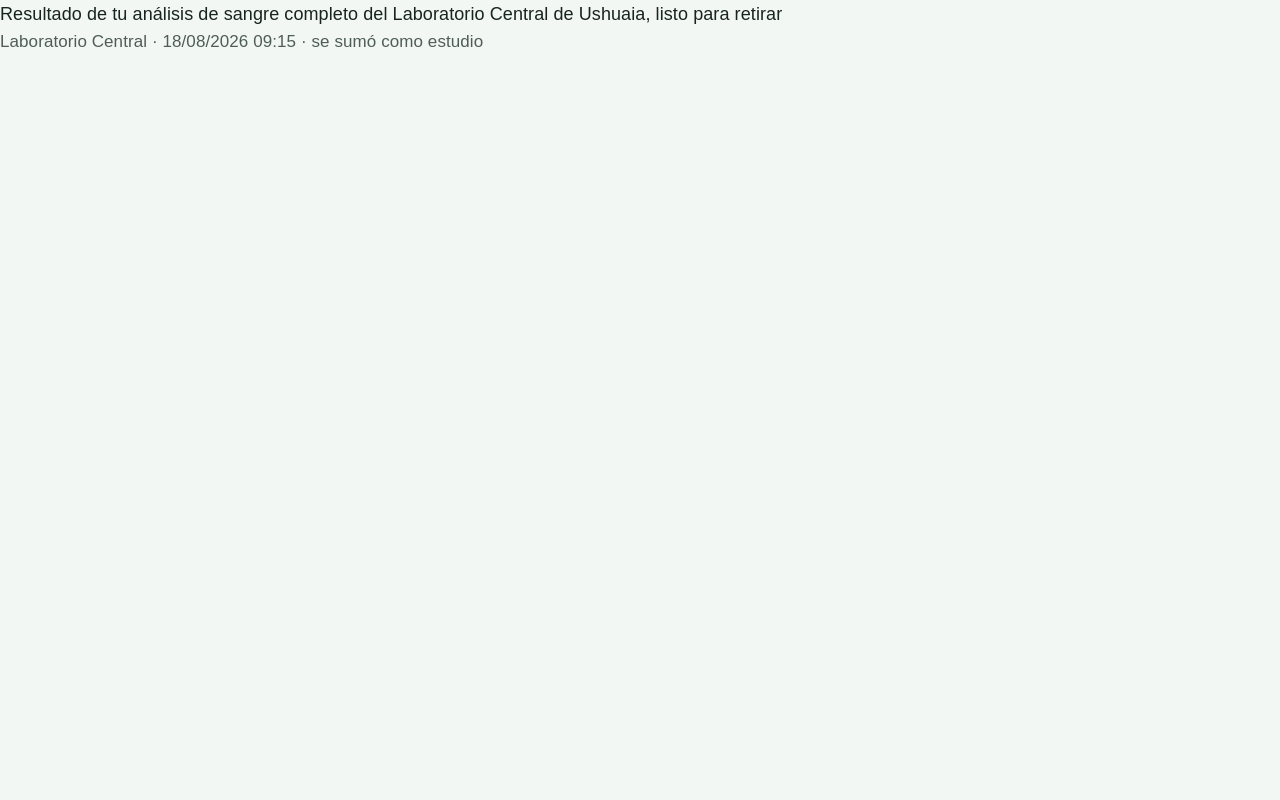
it: DialogoDetalleProcesado › el disparador muestra el asunto truncado, pero el diálogo lo muestra ENTERO
Step 1. Click the button named "Resultado de tu análisis de sangre completo del Laboratorio Central de Ushuaia, listo para retirar" → (391, 14), box [0, 0, 782, 55]
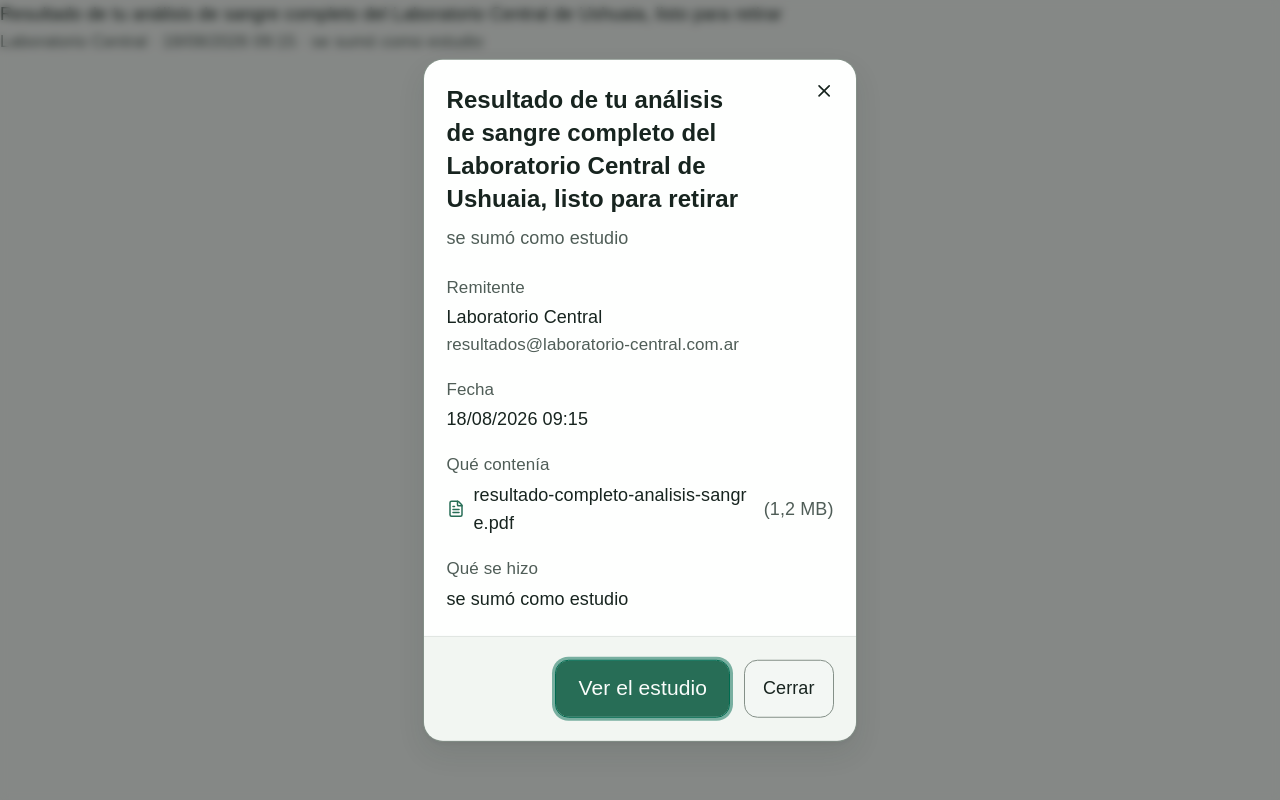
Expected: the dialog shows "Resultado de tu análisis de sangre completo del Laboratorio Central de Ushuaia, listo para retirar", [446, 85, 738, 211]
Expected: the dialog shows "resultados@laboratorio-central.com.ar", [446, 335, 739, 354]
Expected: the dialog shows "resultado-completo-analisis-sangre.pdf", [474, 484, 747, 533]
